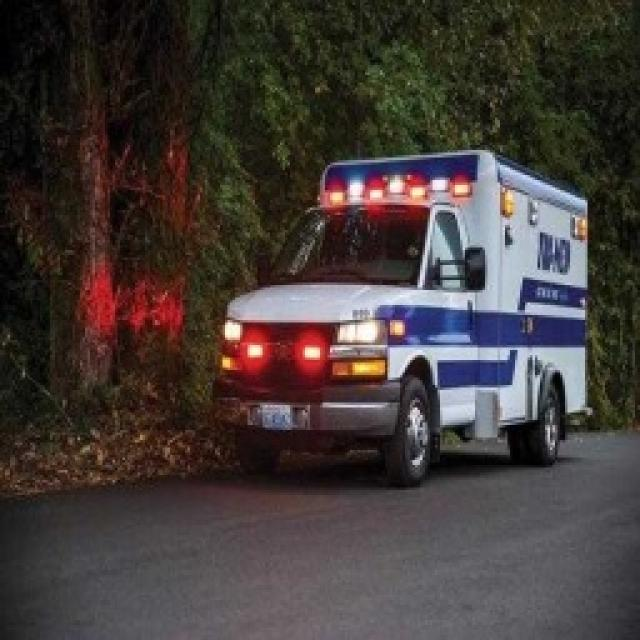emergency-vehicle: (222, 149, 592, 474)
